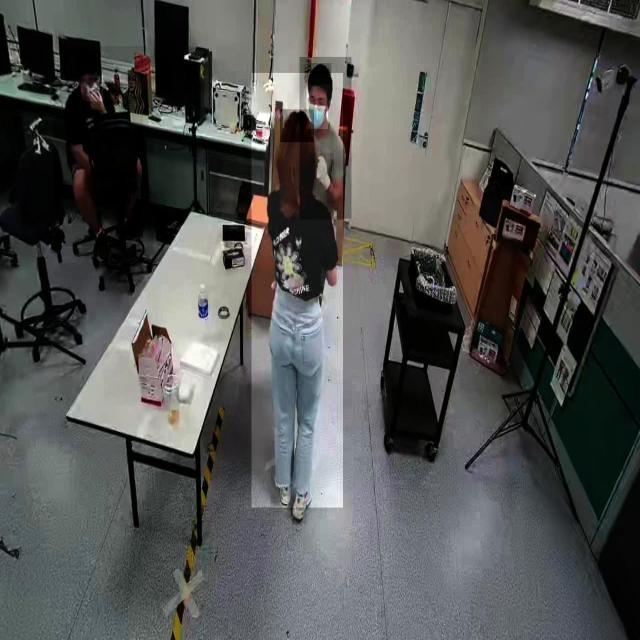face_mask: (306, 86, 328, 129), (81, 76, 103, 102)
hand_glove: (310, 153, 334, 203)
hand_noglove: (87, 88, 105, 111)
head_nohelmet: (280, 109, 314, 143), (307, 63, 332, 85), (76, 51, 100, 72)
person: (252, 73, 344, 508), (54, 46, 144, 247), (300, 57, 352, 219)
shoes: (290, 476, 314, 527), (272, 462, 294, 508)
